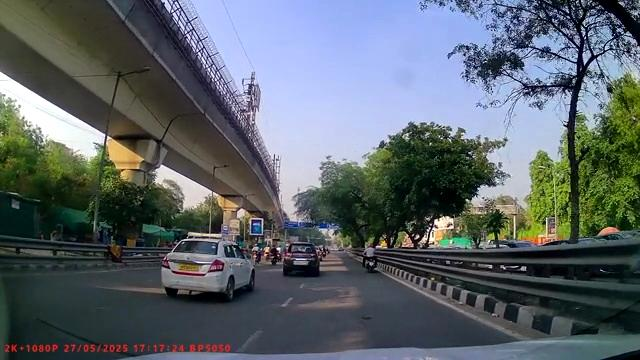motorcycle_with_helmet: (361, 241, 379, 273)
